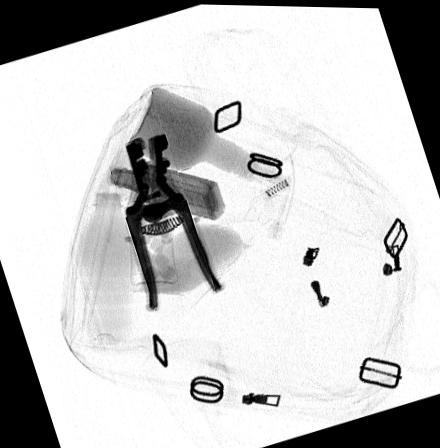Pliers: (122, 130, 221, 307)
